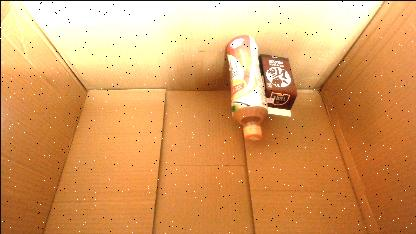Plastic Bottle: (223, 33, 268, 141)
